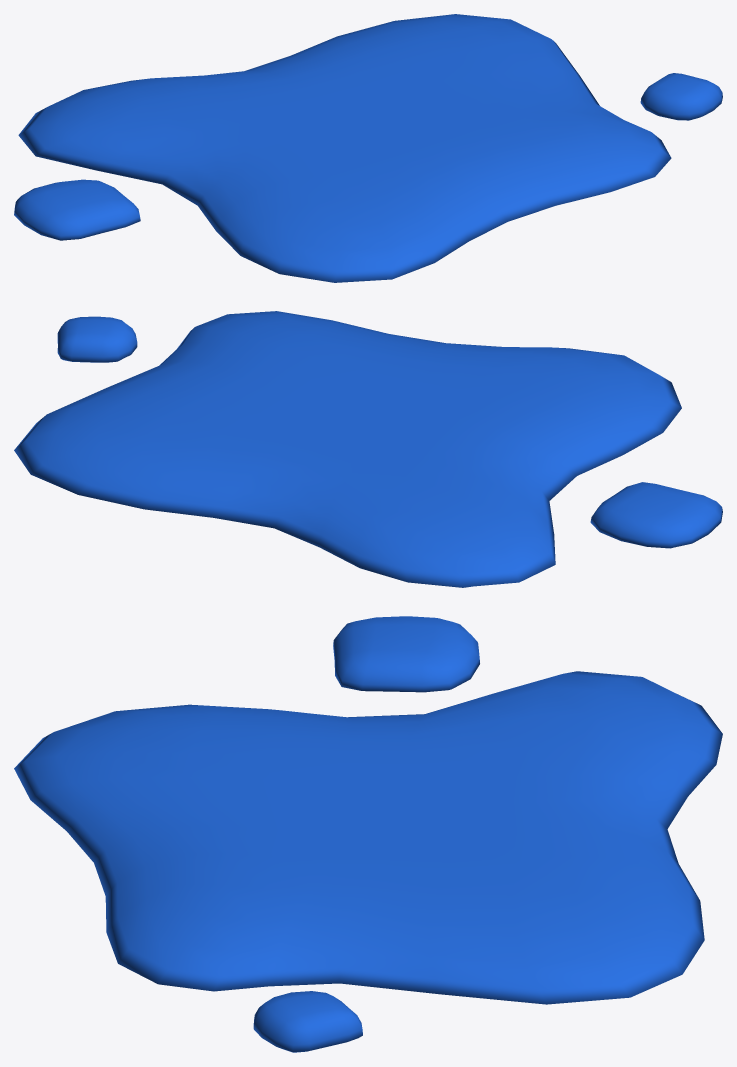
The model's file is spill_puddle.glb.
3 views of the same model, one above another, from view 1: azimuth 30°, elevation 25°; view 2: azimuth 150°, elevation 25°; view 3: azimuth 270°, elevation 25° (orthographic). The views are drawn at different scales.
Parts seen in each view (by area): view 1: spill_puddle; view 2: spill_puddle; view 3: spill_puddle.
Part boxes in pixels (x1,y1,x2,y2): spill_puddle: [14, 14, 722, 282]; spill_puddle: [14, 311, 722, 587]; spill_puddle: [14, 616, 722, 1052].
Size of the model in its own units: 0.658 by 0.0292 by 0.465.
